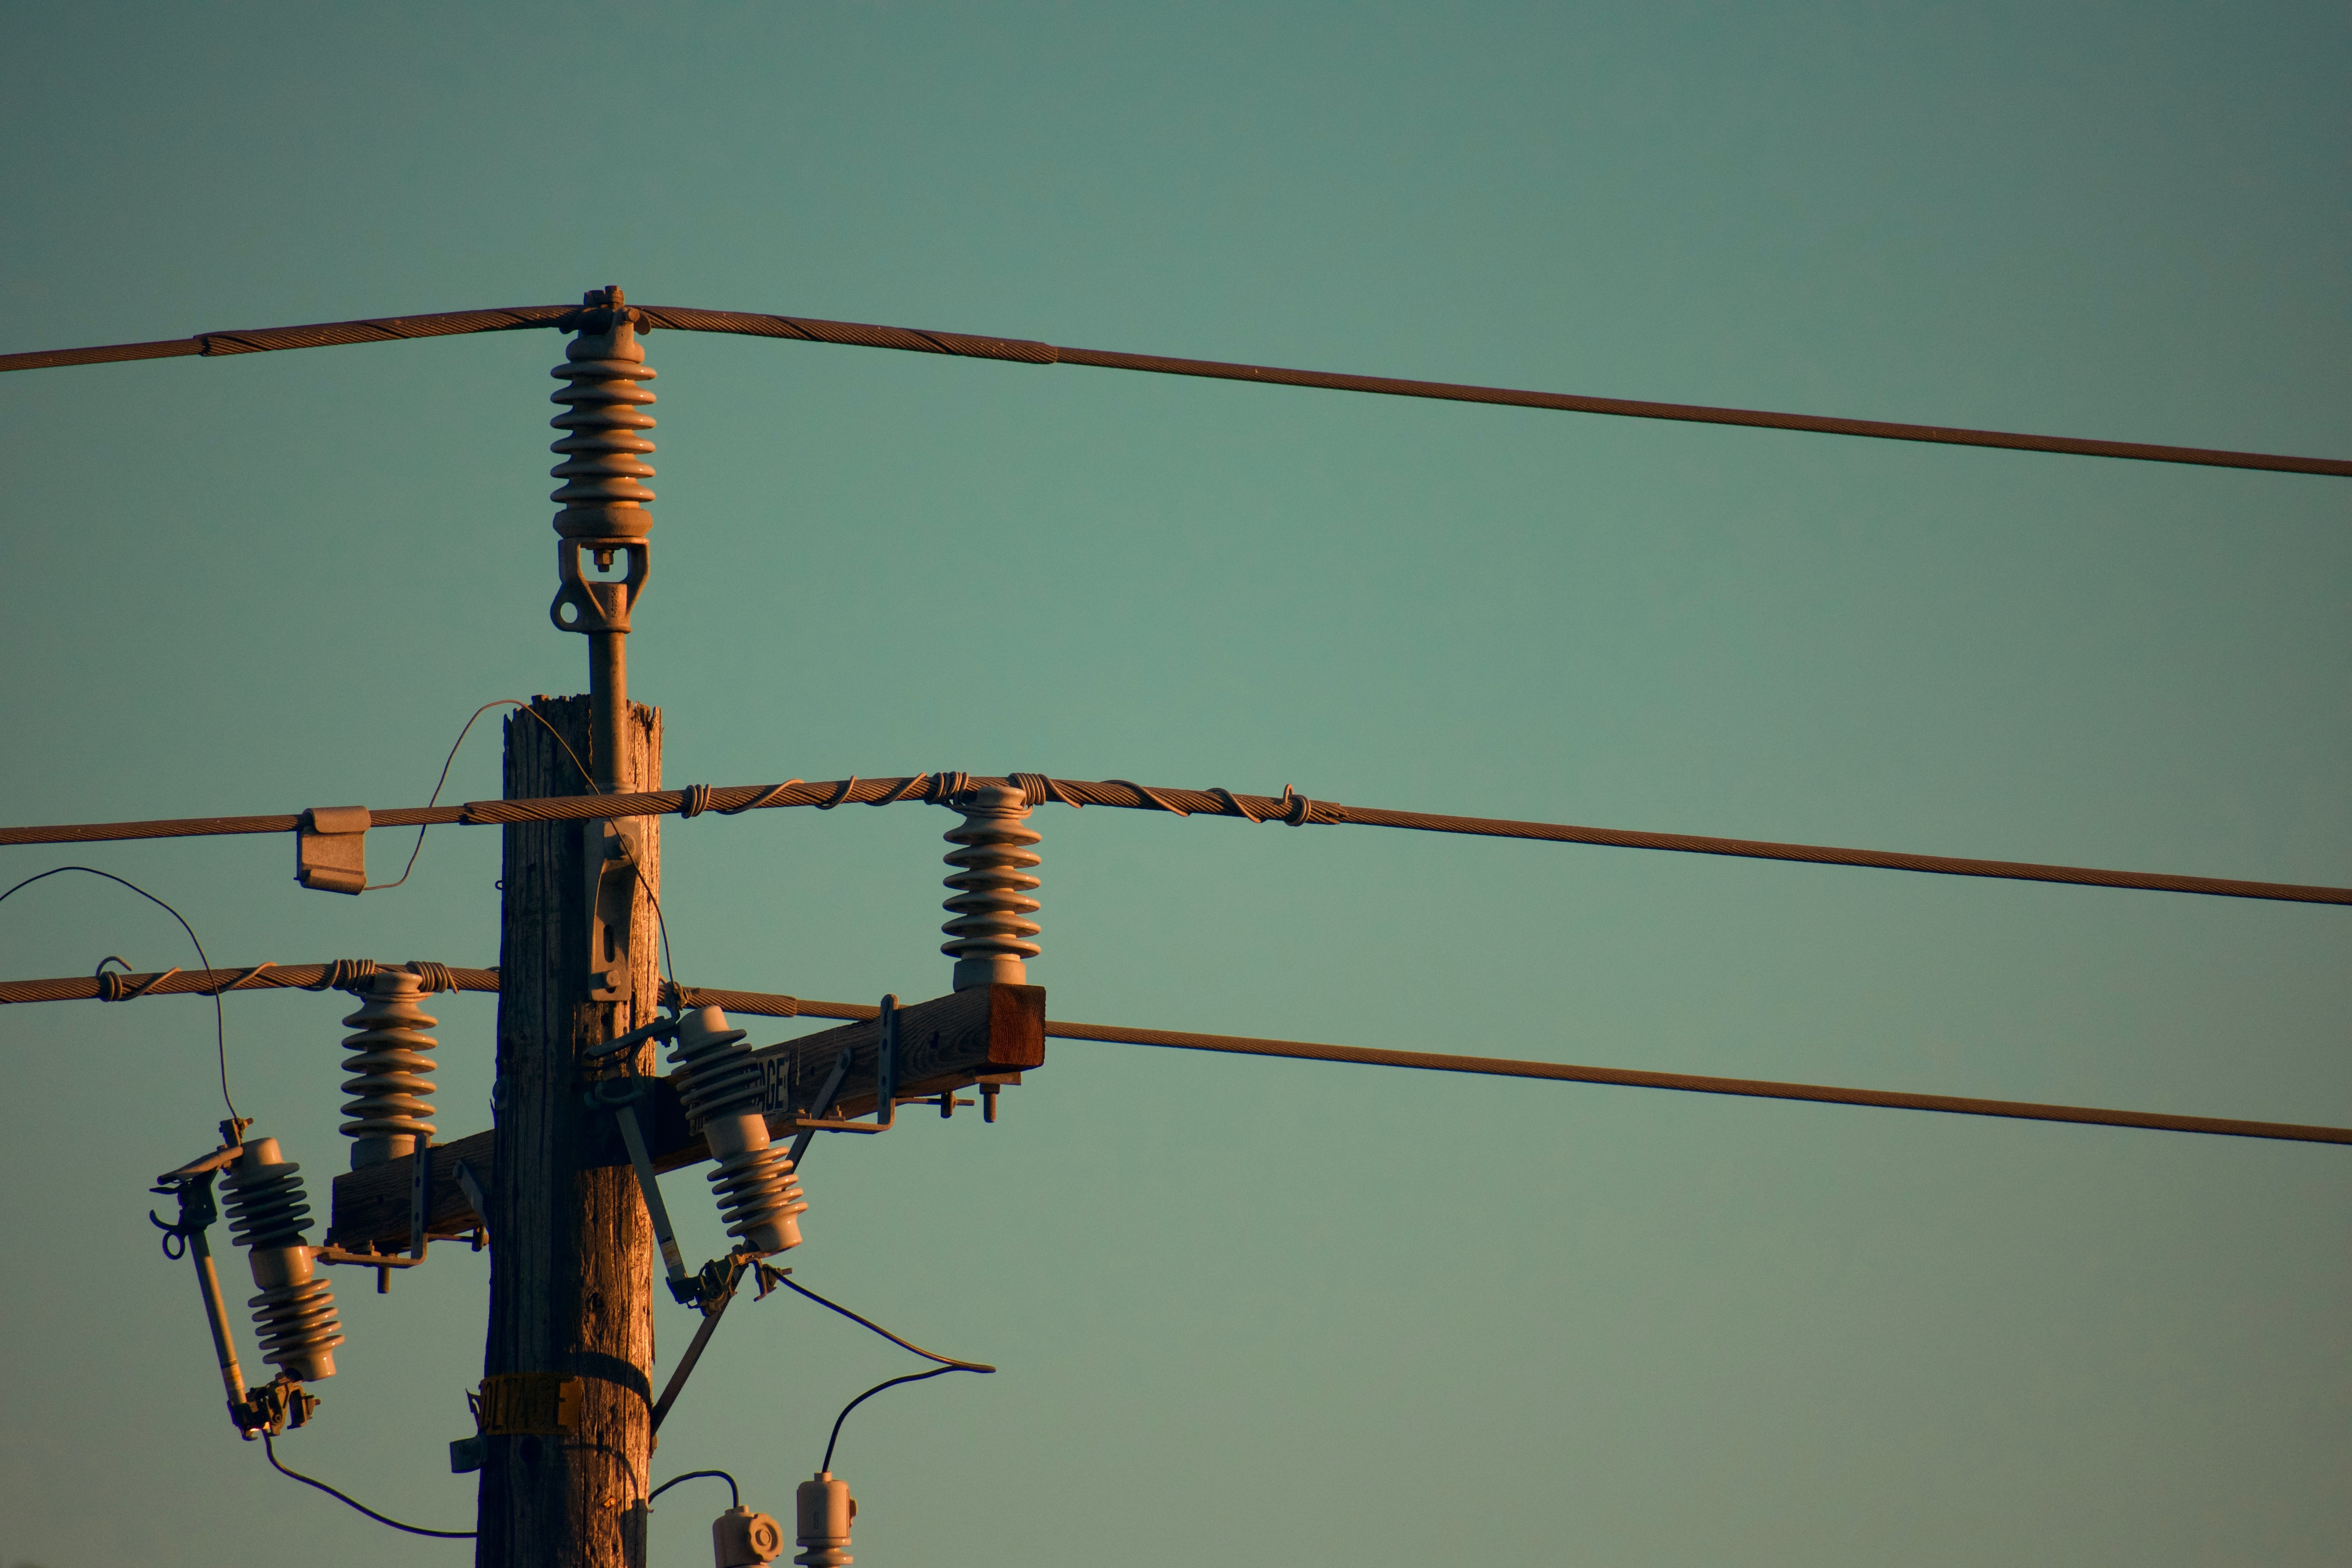utility_pole: (128, 250, 1095, 1568)
